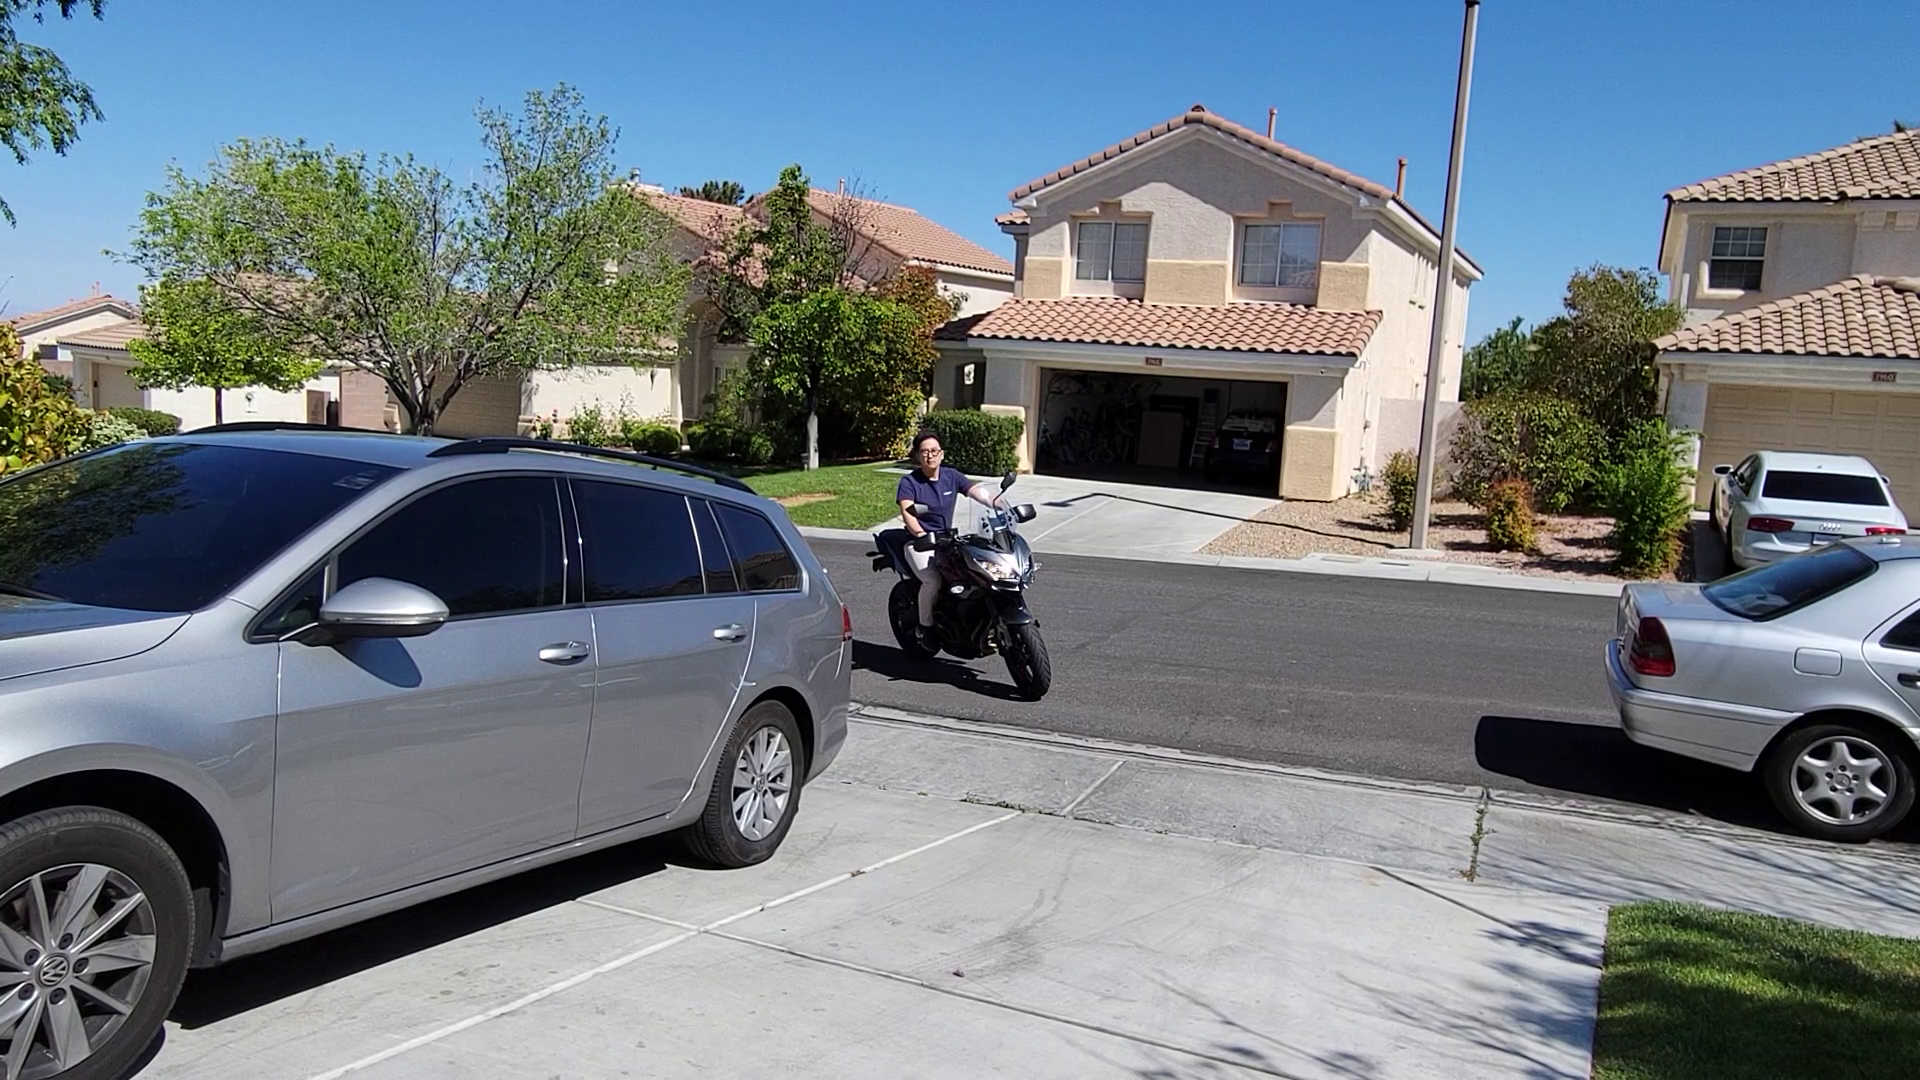my bike: (860, 423, 1054, 702)
